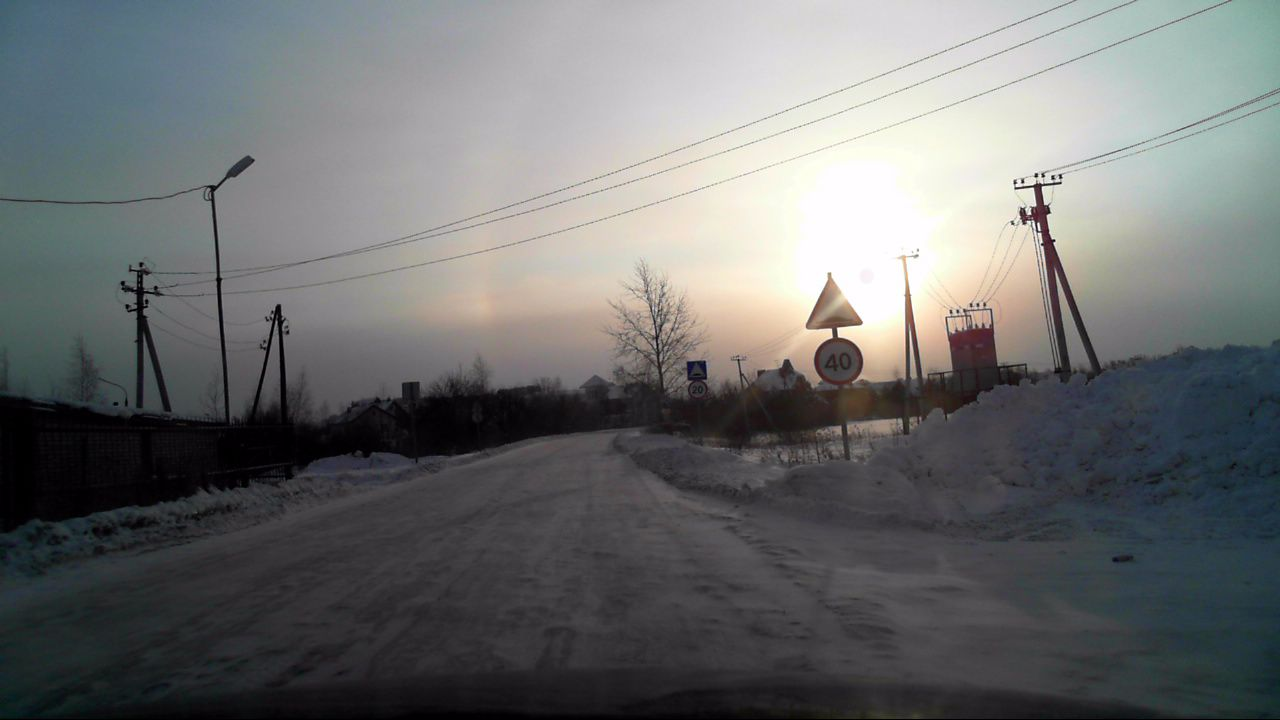speed_warning_40: (813, 338, 863, 385)
